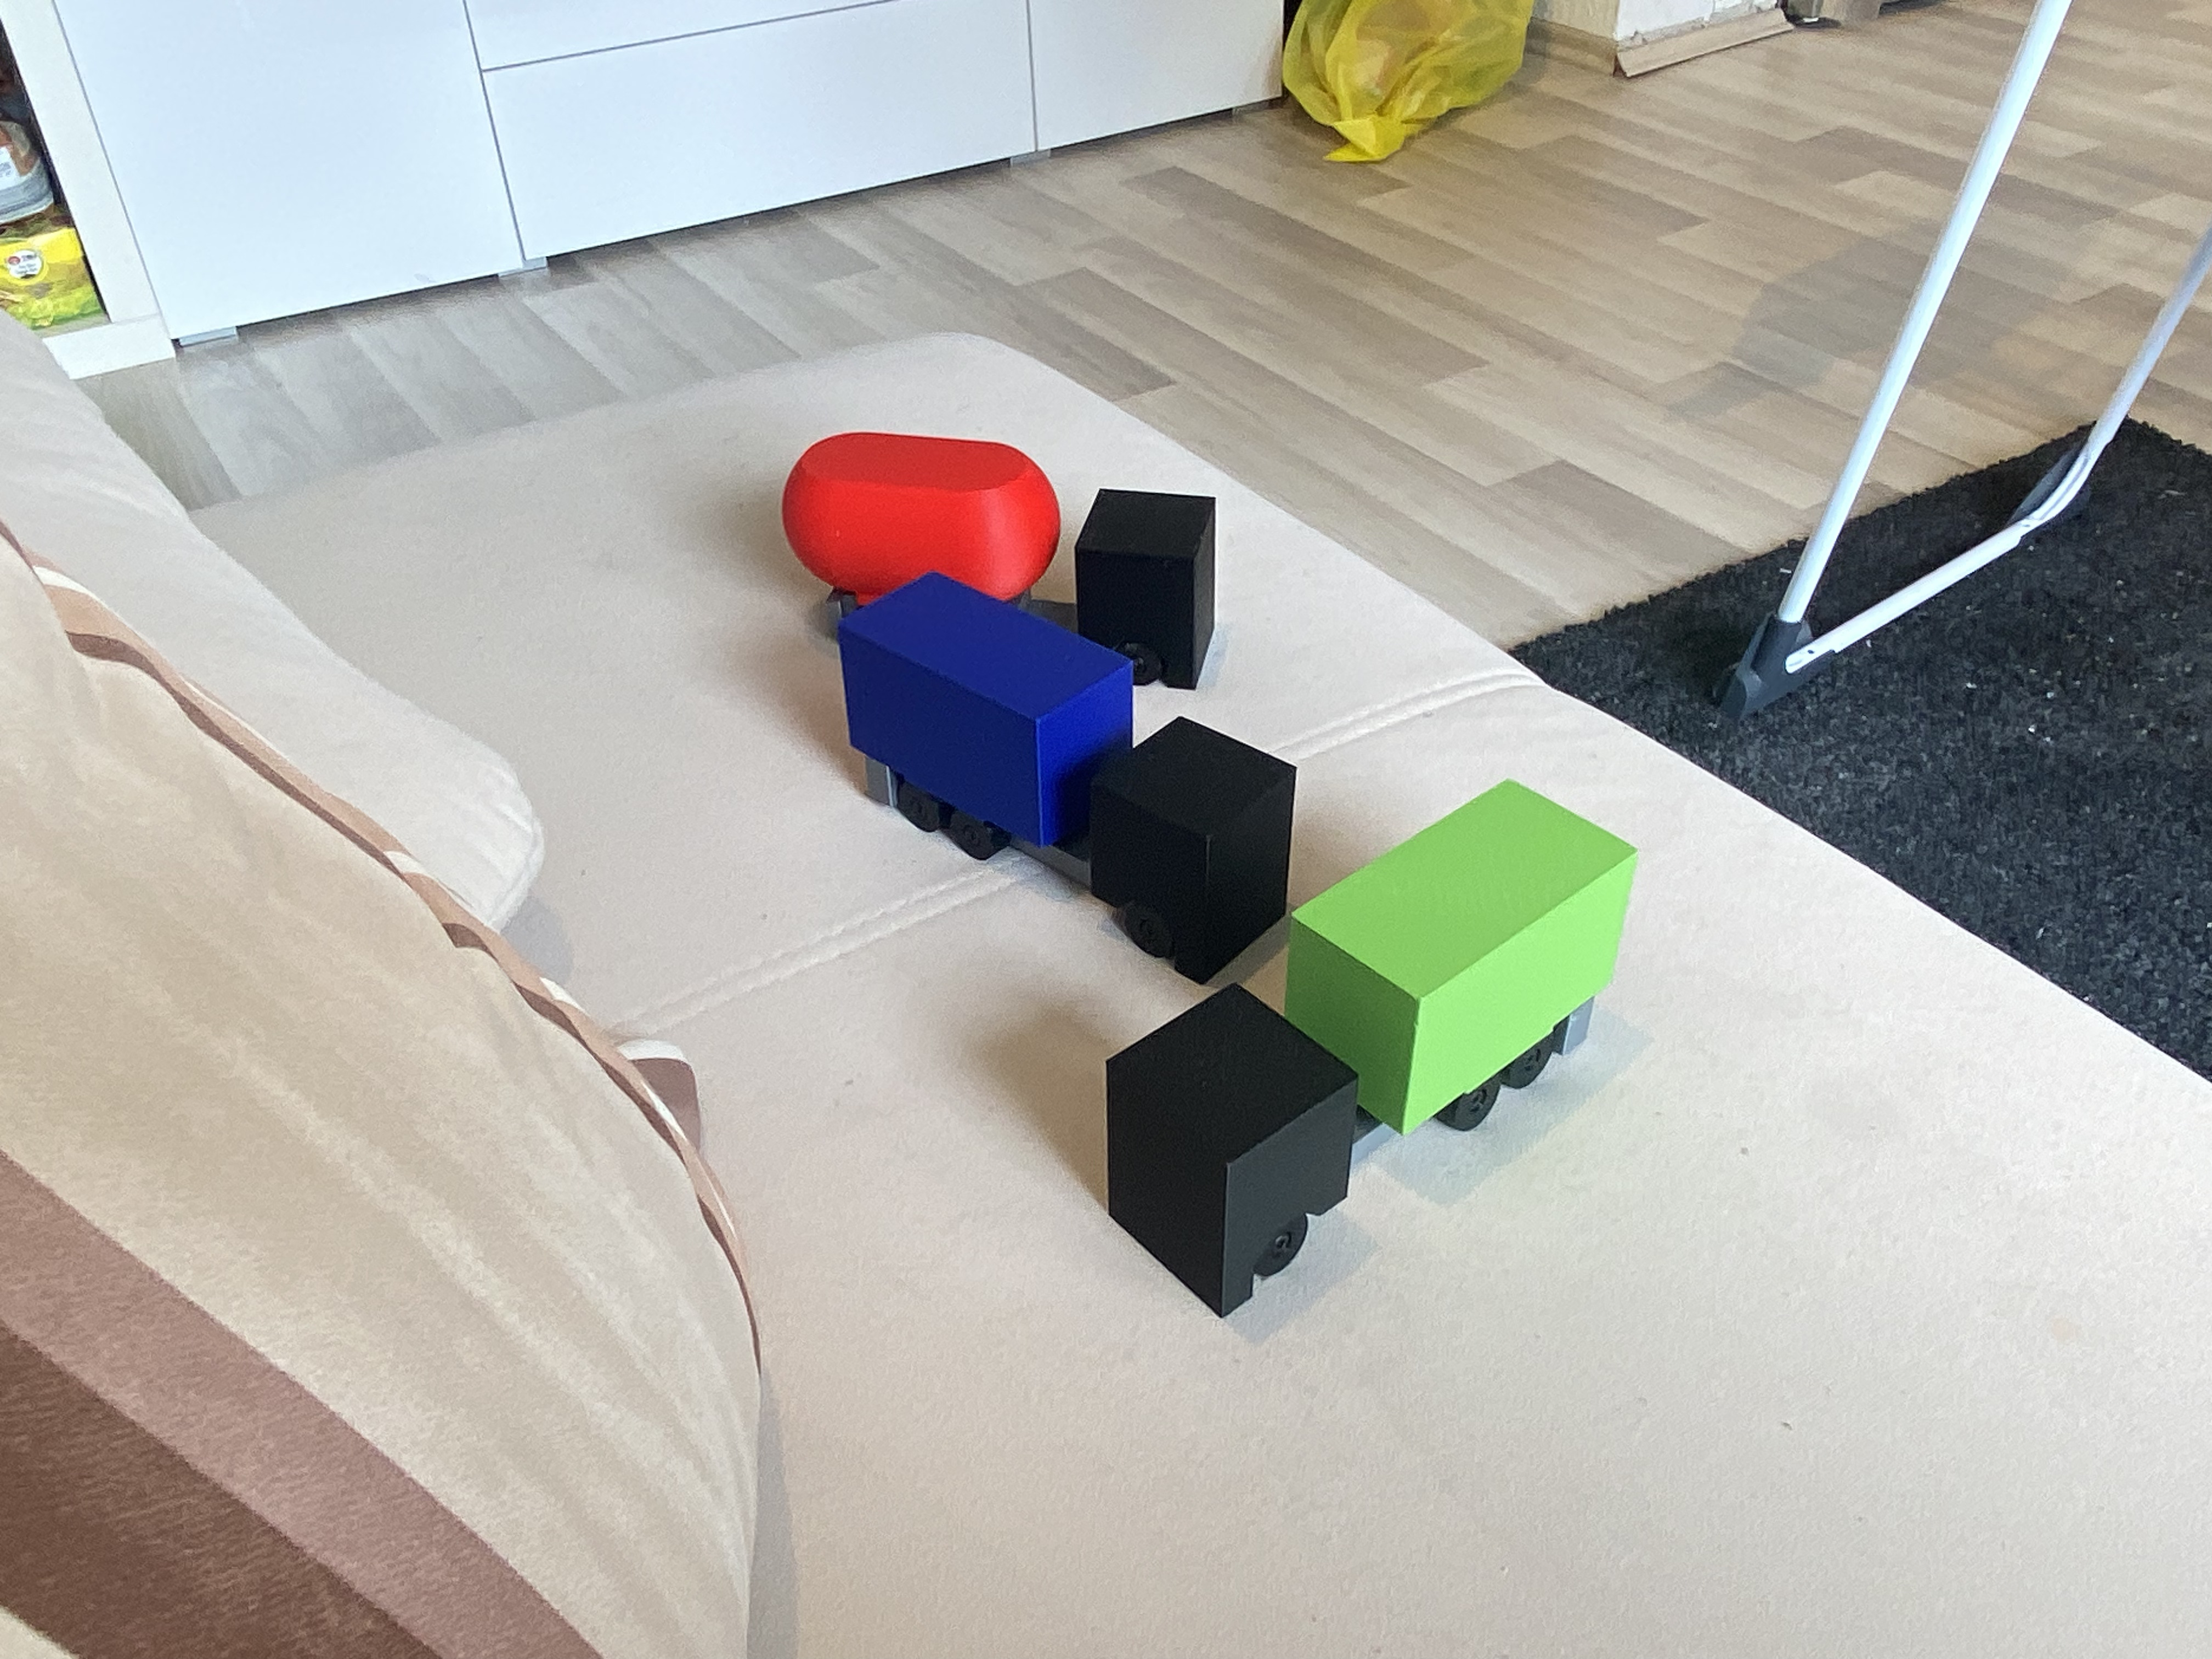blue_truck: (798, 640, 1331, 885)
green_truck: (1061, 882, 1696, 1194)
red_truck: (772, 430, 1224, 676)
